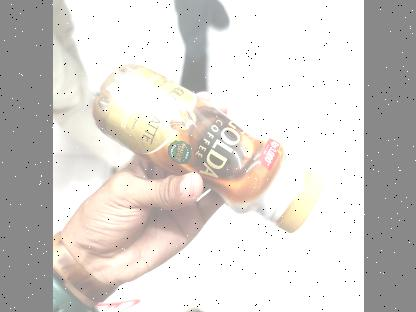Plastic Bottle: (92, 38, 330, 238)
